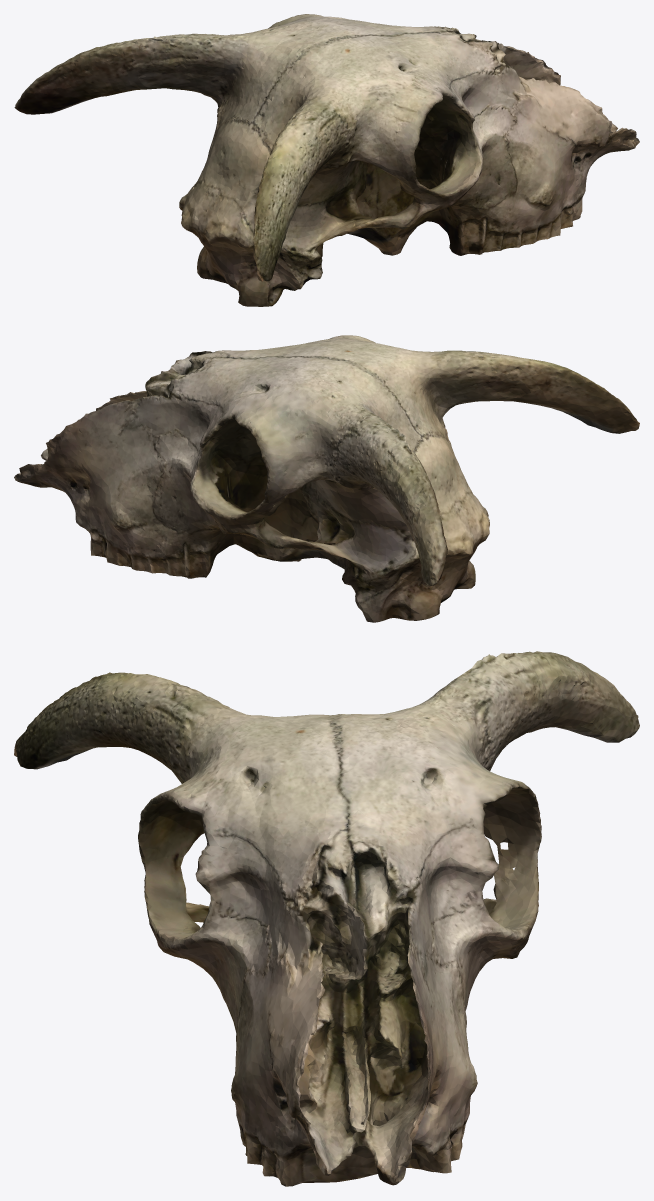
File: tup-sheep-skull.glb
3 views of the same model, one above another, from view 1: azimuth 30°, elevation 25°; view 2: azimuth 150°, elevation 25°; view 3: azimuth 270°, elevation 25° (orthographic). The views are drawn at different scales.
Bounding box in the file's own units: 0.2391 × 0.0973 × 0.1811.
Materials: 1 (1 with a texture image).
